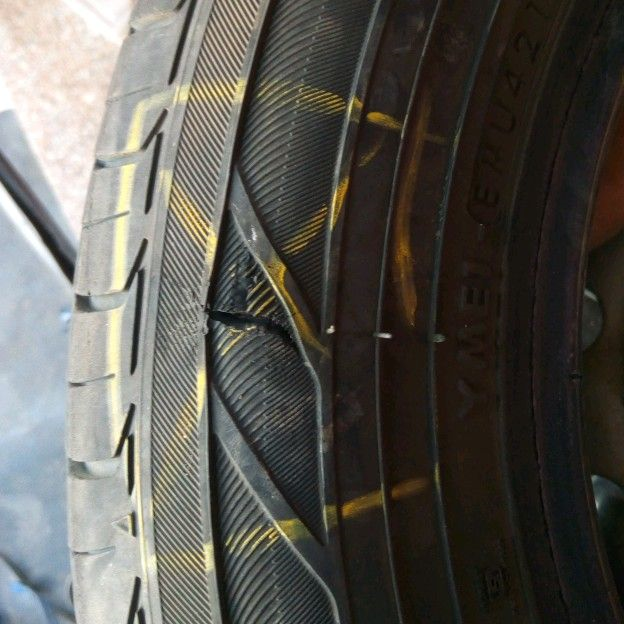cut: (198, 303, 299, 354)
